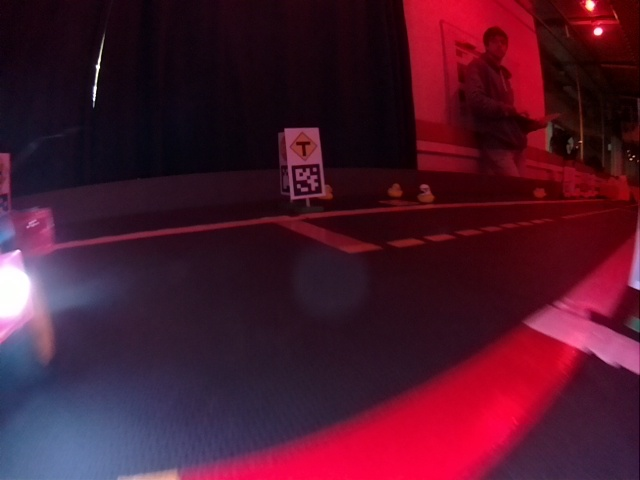Duckie: (418, 183, 436, 203), (388, 182, 402, 197), (324, 185, 334, 199)
Intersection sign: (289, 131, 317, 157)
QR code: (292, 162, 323, 196), (280, 169, 290, 192)
